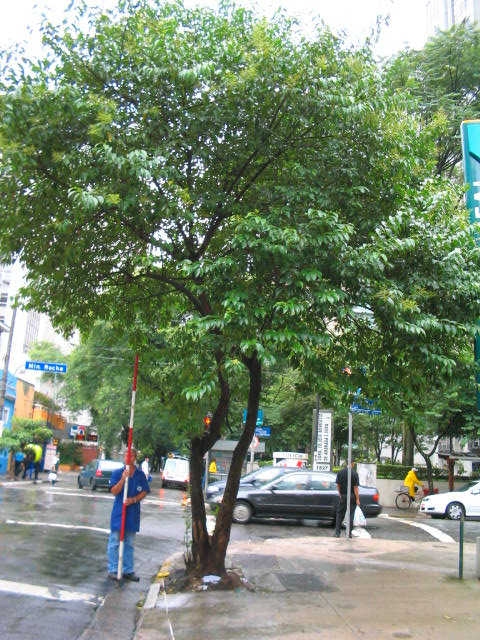crown: (4, 4, 478, 439)
stem: (176, 526, 245, 588)
stick: (112, 355, 147, 580)
tree: (1, 1, 480, 591)
